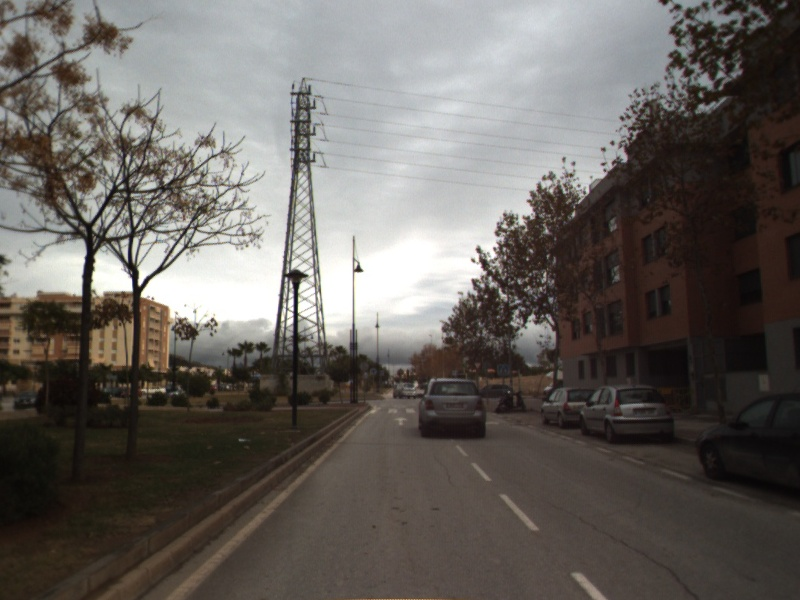STRAIGHT: (392, 415, 409, 427)
